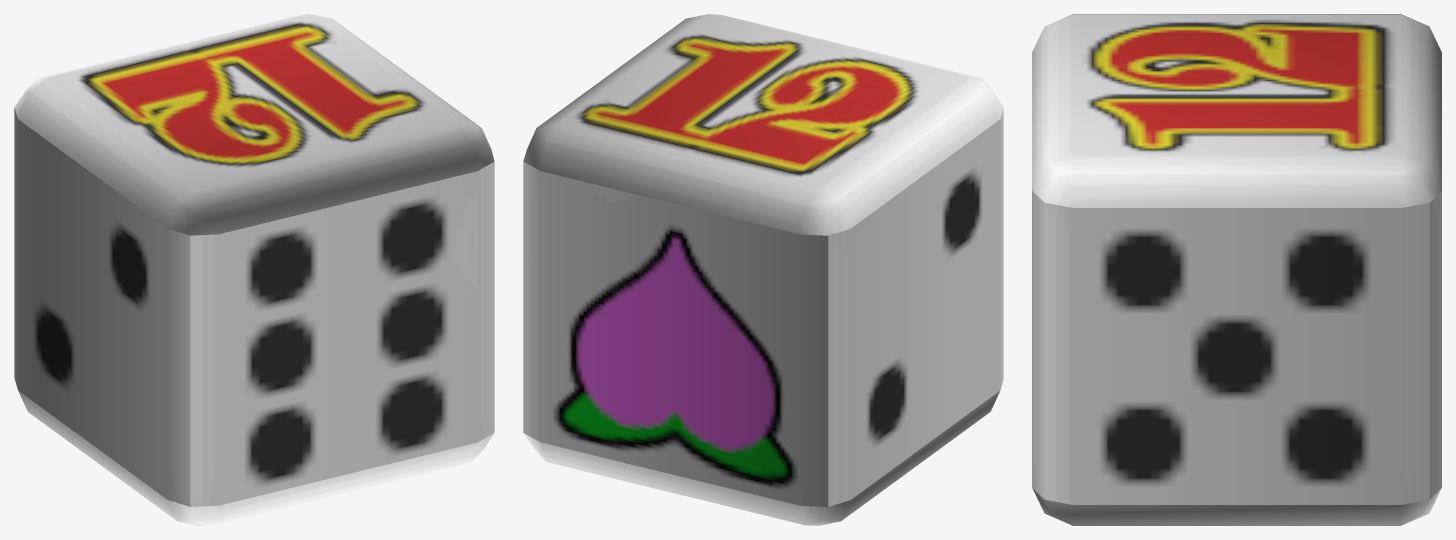
File: sm_02.ico.obj
The picture shows the model from 3 angles, left to right: view 1: azimuth 30°, elevation 25°; view 2: azimuth 150°, elevation 25°; view 3: azimuth 270°, elevation 25°; orthographic projection. The views are drawn at different scales.
Bounding box in the file's own units: 2.5 × 2.5 × 2.5.
Materials: 1 (1 with a texture image).
